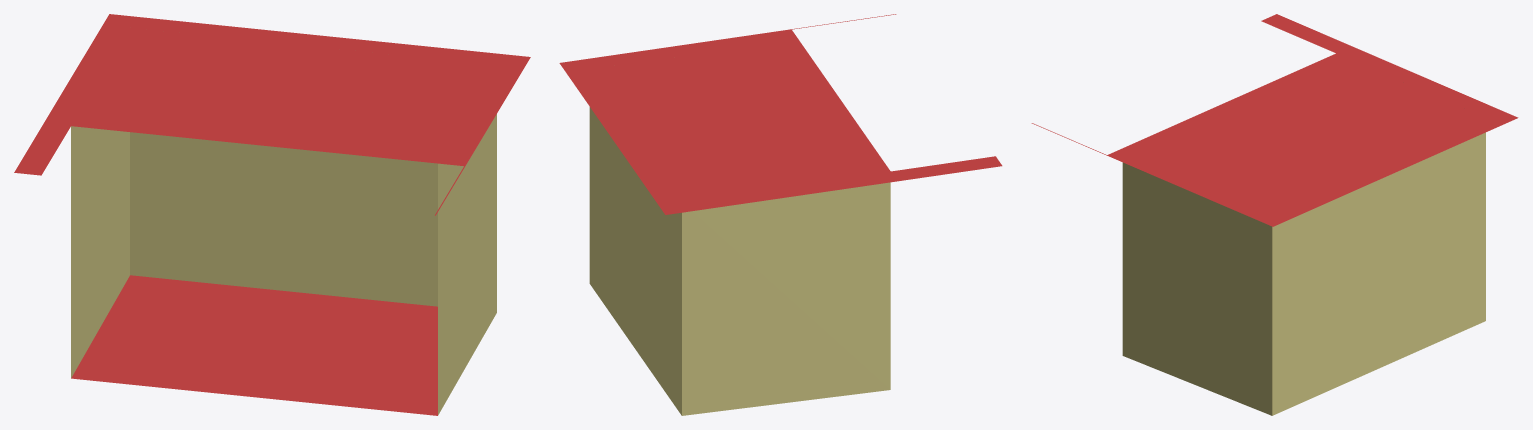
3 renders of one model, left to right at view 1: azimuth 30°, elevation 25°; view 2: azimuth 150°, elevation 25°; view 3: azimuth 270°, elevation 25°, orthographic. The views are drawn at different scales.
Size of the model in its own units: 10.56 by 10.54 by 5.
